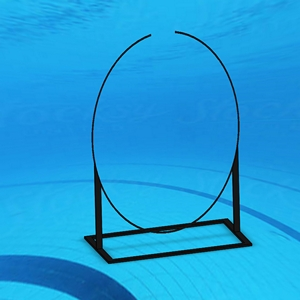circle: (82, 30, 258, 264)
